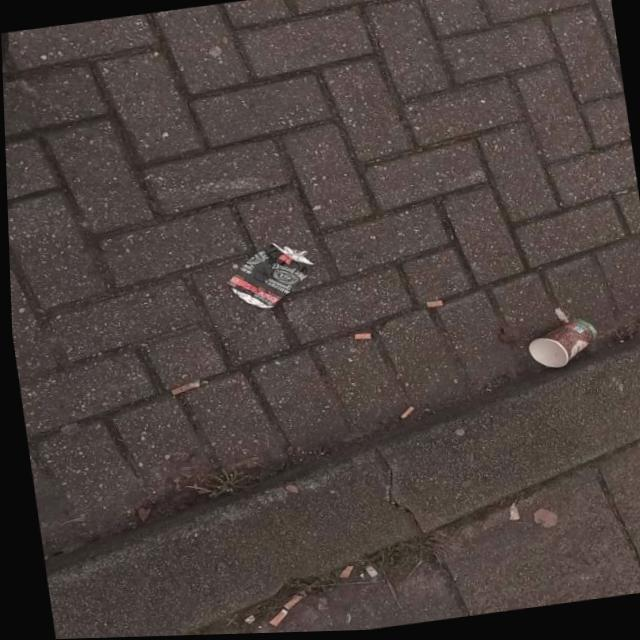Can-Metal: (217, 235, 322, 316)
Cup: (520, 317, 601, 374)
